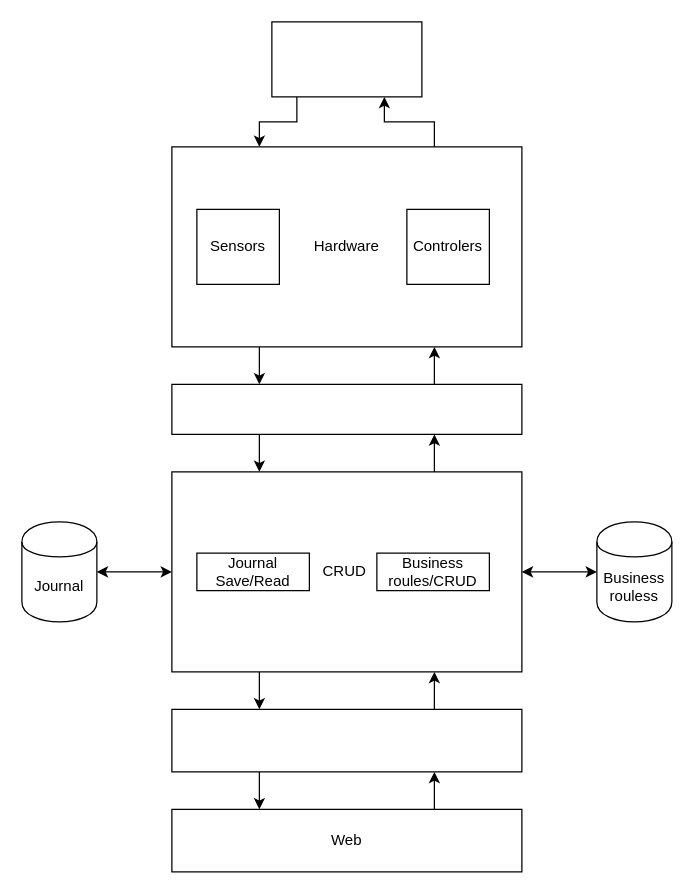
The diagram is 694 pixels wide and 894 high, and some of its shapes have lost their labels. The shapes that lost their labels are listed below. From the top down, each one's box as (x1, y1, x2, y2) in pixels, then its label:
(271, 21, 422, 97): Fake Data Generator
(171, 383, 522, 434): Validation
(171, 708, 522, 772): USER module
